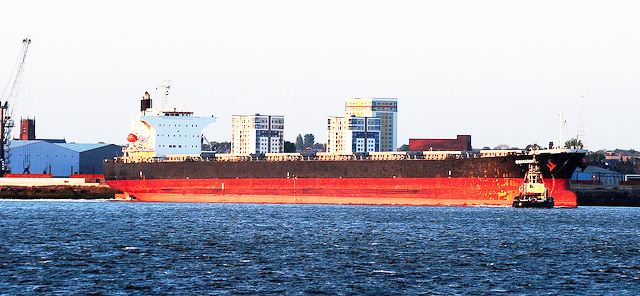bulk carrier: (99, 84, 588, 212)
tug_boat: (512, 156, 555, 211)
